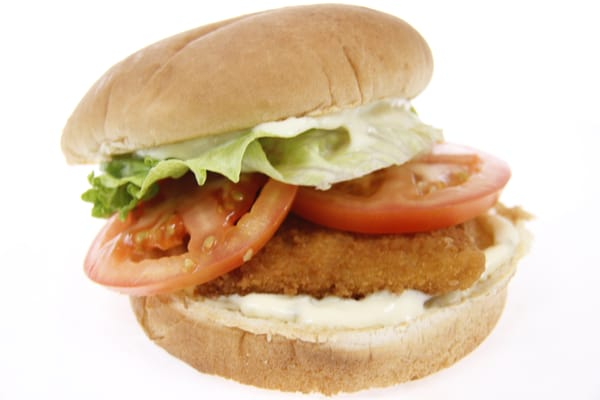soup: (72, 6, 523, 392)
